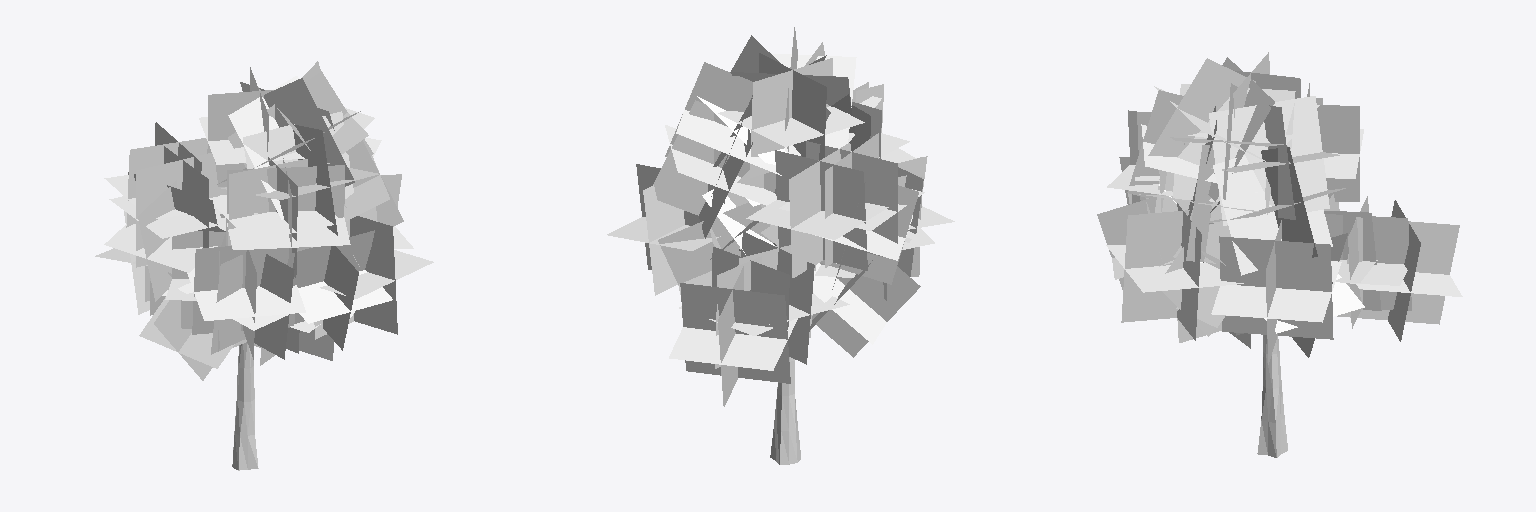
File: dzewo2.obj
The picture shows the model from 3 angles: view 1: azimuth 30°, elevation 25°; view 2: azimuth 150°, elevation 25°; view 3: azimuth 270°, elevation 25°; orthographic projection.
Visible parts, largest first — view 1: liscie, pienigalezie; view 2: liscie, pienigalezie; view 3: liscie, pienigalezie.
Part boxes in pixels (bbox=[...]): liscie: bbox=[95, 61, 433, 380]; pienigalezie: bbox=[232, 342, 258, 470]; liscie: bbox=[607, 27, 954, 406]; pienigalezie: bbox=[688, 225, 840, 464]; liscie: bbox=[1097, 52, 1462, 364]; pienigalezie: bbox=[1200, 262, 1287, 457].
Size of the model in its own units: 8.82 by 12.14 by 9.94.